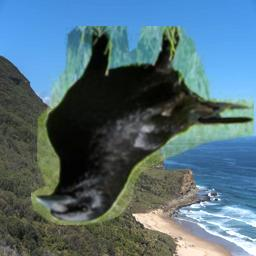Crow: (31, 26, 254, 225)
